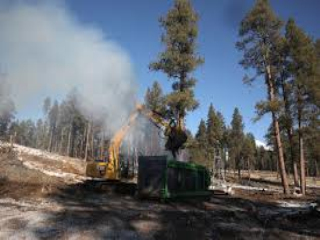smoke: (57, 25, 157, 156)
